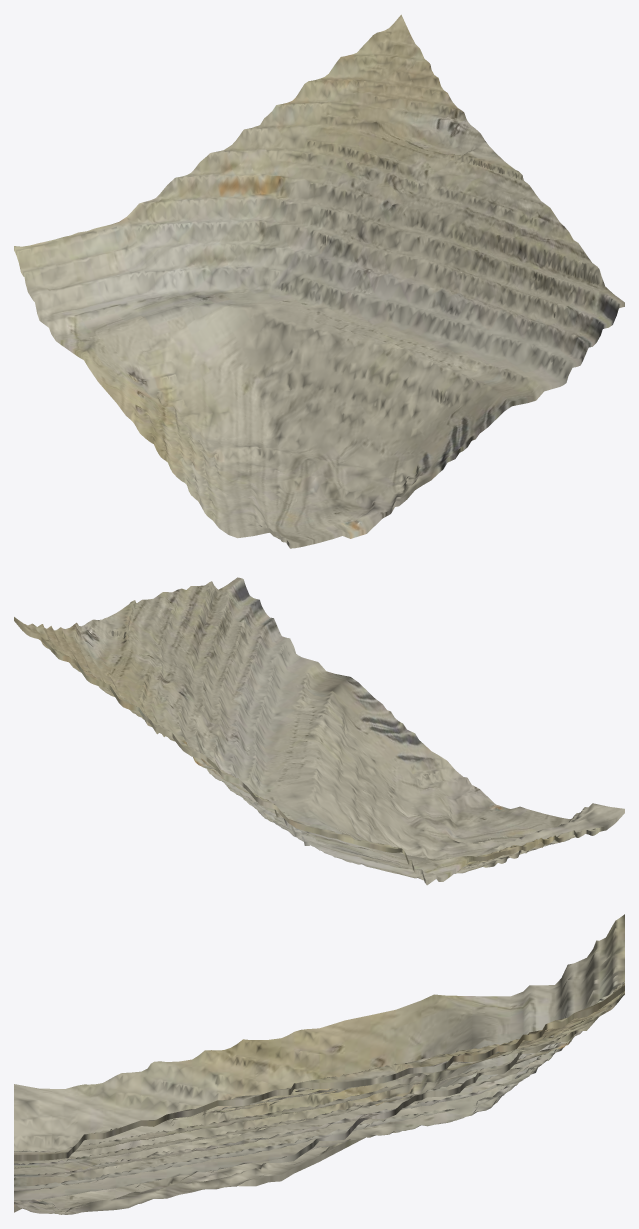
3 views of the same model, one above another, from view 1: azimuth 30°, elevation 25°; view 2: azimuth 150°, elevation 25°; view 3: azimuth 270°, elevation 25° (orthographic). The views are drawn at different scales.
Visible parts, largest first — view 1: l1-2-2; view 2: l1-2-2; view 3: l1-2-2.
Part boxes in pixels (x1,y1,x2,y2): l1-2-2: [14, 14, 624, 548]; l1-2-2: [14, 577, 624, 885]; l1-2-2: [14, 914, 624, 1214].
Bounding box in the file's own units: 768 × 557 × 768.
Materials: 1 (1 with a texture image).
